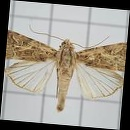Spodoptera litura: (5, 27, 125, 113)
